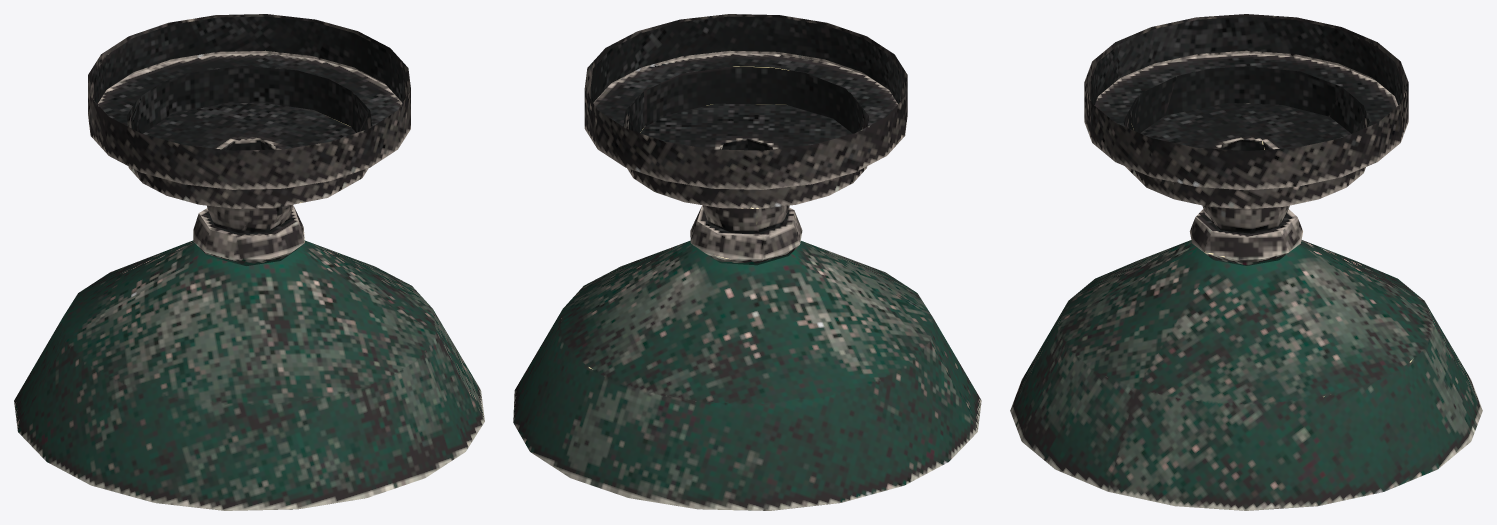
File: CeilingLight.glb
3 renders of one model, left to right at view 1: azimuth 30°, elevation 25°; view 2: azimuth 150°, elevation 25°; view 3: azimuth 270°, elevation 25°, orthographic.
Parts seen in each view (by area): view 1: CeilingLight; view 2: CeilingLight; view 3: CeilingLight.
Part boxes in pixels (x1,y1,x2,y2): CeilingLight: [14, 14, 484, 510]; CeilingLight: [513, 14, 981, 510]; CeilingLight: [1010, 14, 1482, 510].
Size of the model in its own units: 0.3981 by 0.309 by 0.4002.
Materials: 1 (1 with a texture image).
